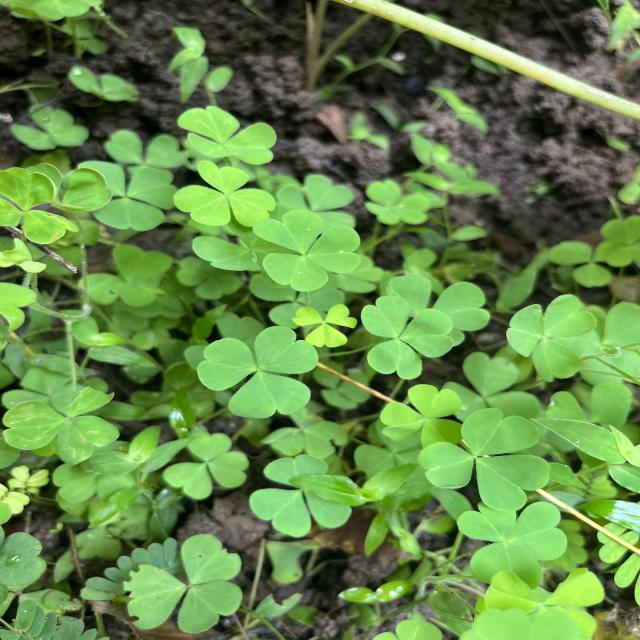Oxalis corniculata: (418, 405, 554, 511), (122, 531, 245, 635), (195, 324, 323, 419), (456, 498, 572, 594), (250, 208, 364, 294), (3, 385, 121, 468), (249, 454, 356, 538), (504, 293, 598, 382), (360, 292, 455, 380), (172, 158, 278, 228), (176, 104, 279, 167), (161, 430, 250, 500), (291, 302, 360, 348)
